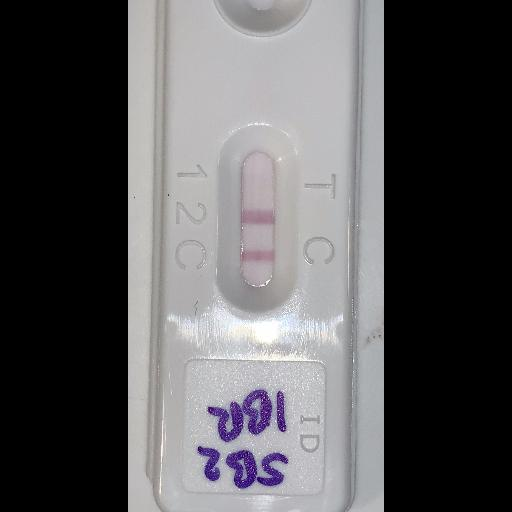Pos: (157, 1, 363, 507)
